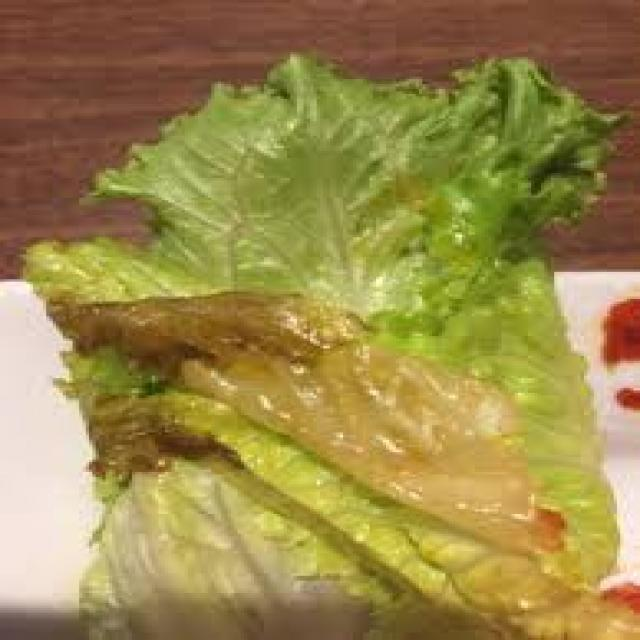organic waste: (13, 50, 637, 638)
